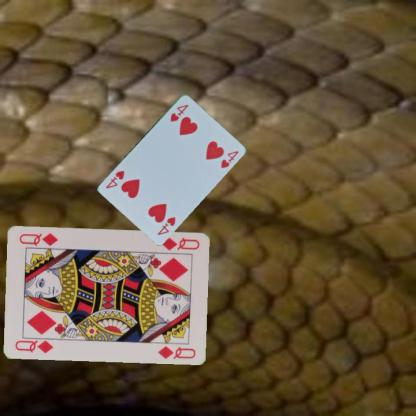4h: (154, 214, 177, 236), (167, 102, 190, 122)
Qd: (13, 334, 58, 355), (159, 235, 201, 252)
